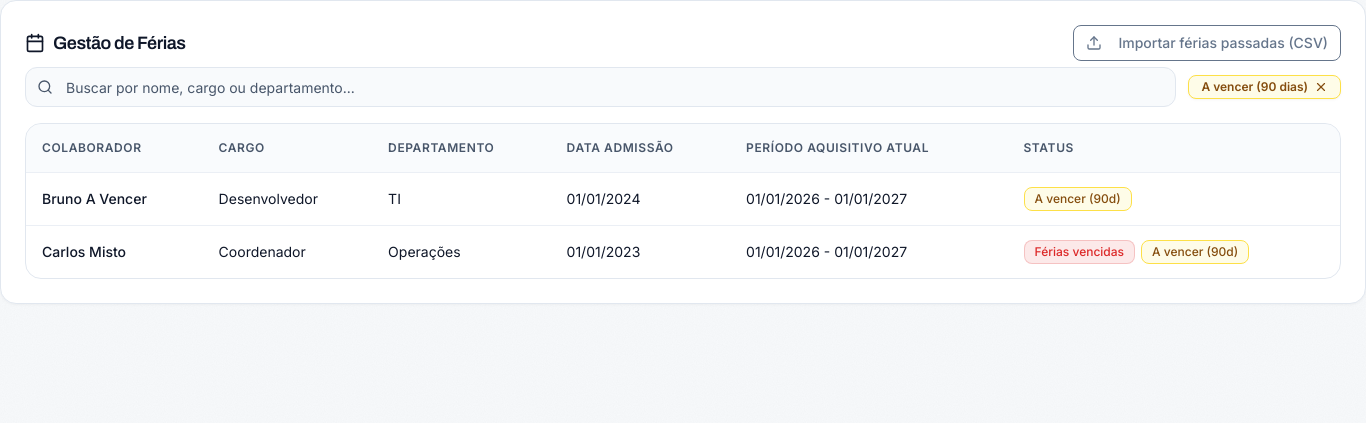
ETAPA 3: ColaboradoresFeriasList — Filtro Visual, Chip, Badges e Empty State › Empty state correto para filtro 'a_vencer' quando nenhum resultado
In the field with placeholder "Buscar por nome, cargo ou departamento...": [601, 87] box [25,67,1176,107], type "NomeInexistente"
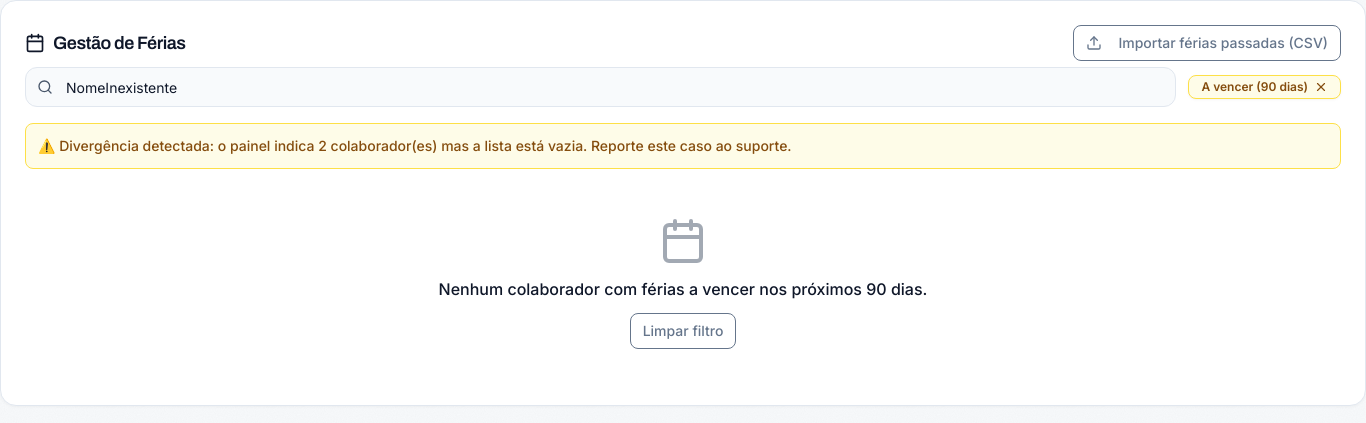
Now the text "Nenhum colaborador com férias a vencer nos próximos 90 dias." is shown, box [439,279,927,299]
